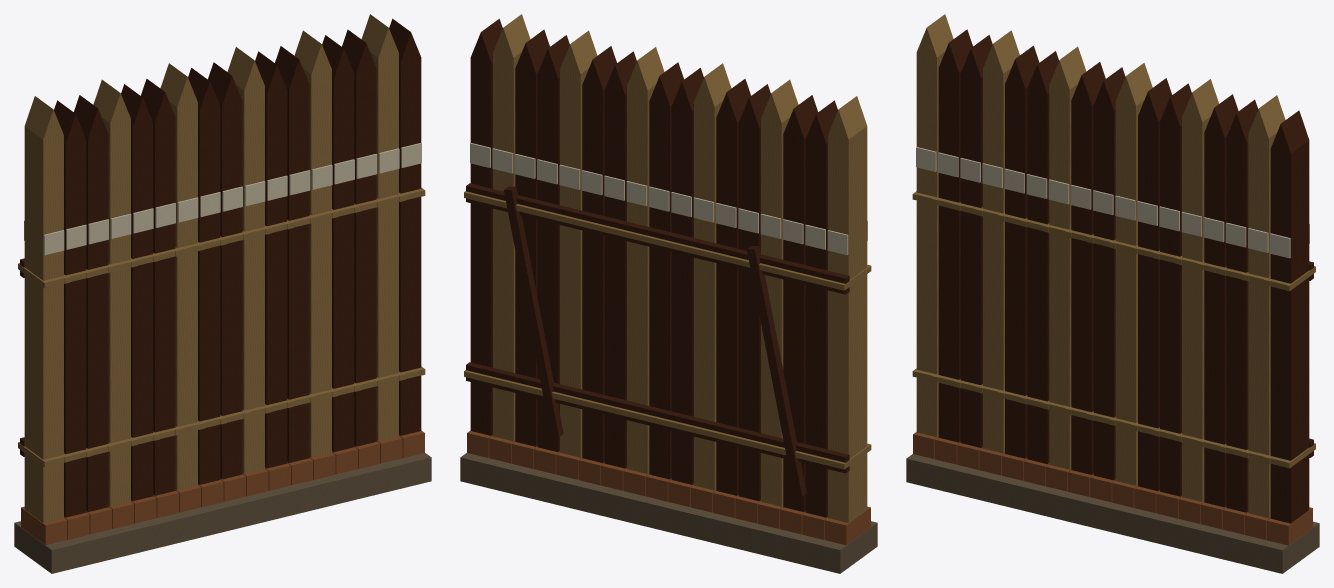
File: Berber_Palisade_Age3_gapfill_4m.fbx
3 renders of one model, left to right at view 1: azimuth 30°, elevation 25°; view 2: azimuth 150°, elevation 25°; view 3: azimuth 330°, elevation 25°, orthographic.
Visible parts, largest first — view 1: palm_split_post.041, palm_split_post.043, palm_split_post.039, palm_split_post.036, palm_split_post.042, palm_split_post.046, earth_seat.006, post_earth_socket.006, palm_split_post.045, palm_split_post.048, neutral_owner_band.006, front_lashing.006 (+1 smaller); view 2: palm_split_post.043, palm_split_post.036, palm_split_post.039, palm_split_post.041, palm_split_post.046, palm_split_post.042, earth_seat.006, continuous_rear_tie.006, post_earth_socket.006, palm_split_post.045, palm_split_post.048, neutral_owner_band.006 (+3 smaller); view 3: palm_split_post.043, palm_split_post.039, palm_split_post.041, palm_split_post.036, palm_split_post.042, palm_split_post.046, earth_seat.006, post_earth_socket.006, palm_split_post.048, palm_split_post.045, neutral_owner_band.006, front_lashing.006 (+1 smaller).
Boxes of the visible parts, x1,y1,x2,y2 form: palm_split_post.041: (74,29,376,511); palm_split_post.043: (121,18,421,501); palm_split_post.039: (54,35,354,517); palm_split_post.036: (24,30,331,522); palm_split_post.042: (93,14,398,506); palm_split_post.046: (188,46,309,484); earth_seat.006: (14,453,431,573); post_earth_socket.006: (21,430,424,545); palm_split_post.045: (160,63,197,490); palm_split_post.048: (227,47,264,473); neutral_owner_band.006: (24,143,421,255); front_lashing.006: (43,189,423,466); palm_split_post.043: (470,18,770,501); palm_split_post.036: (560,30,867,522); palm_split_post.039: (537,35,837,517); palm_split_post.041: (515,29,817,511); palm_split_post.046: (582,46,703,484); palm_split_post.042: (493,14,798,506); earth_seat.006: (460,453,877,573); continuous_rear_tie.006: (466,183,849,473); post_earth_socket.006: (467,430,870,545); palm_split_post.045: (694,63,731,490); palm_split_post.048: (627,47,664,473); neutral_owner_band.006: (470,143,867,255); palm_split_post.043: (1005,45,1309,523); palm_split_post.039: (938,29,1238,507); palm_split_post.041: (960,35,1258,512); palm_split_post.036: (916,14,1218,501); palm_split_post.042: (983,30,1285,518); palm_split_post.046: (1071,62,1191,496); earth_seat.006: (906,454,1319,573); post_earth_socket.006: (913,432,1312,545); palm_split_post.048: (1115,63,1152,485); palm_split_post.045: (1049,46,1086,469); neutral_owner_band.006: (916,147,1309,258); front_lashing.006: (914,193,1290,467).
Size of the model in its own units: 401 by 458 by 68.29.
5 materials, 5 textured.
